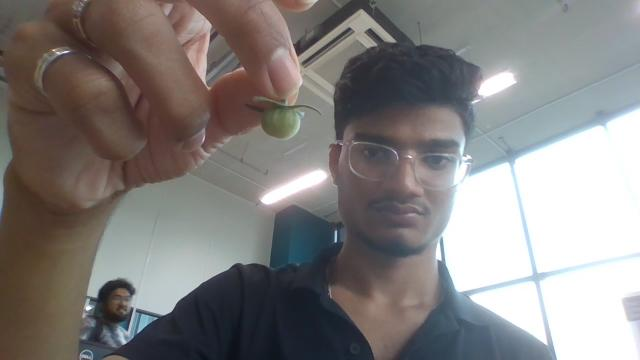Fruit Maturation: (260, 104, 301, 141)
